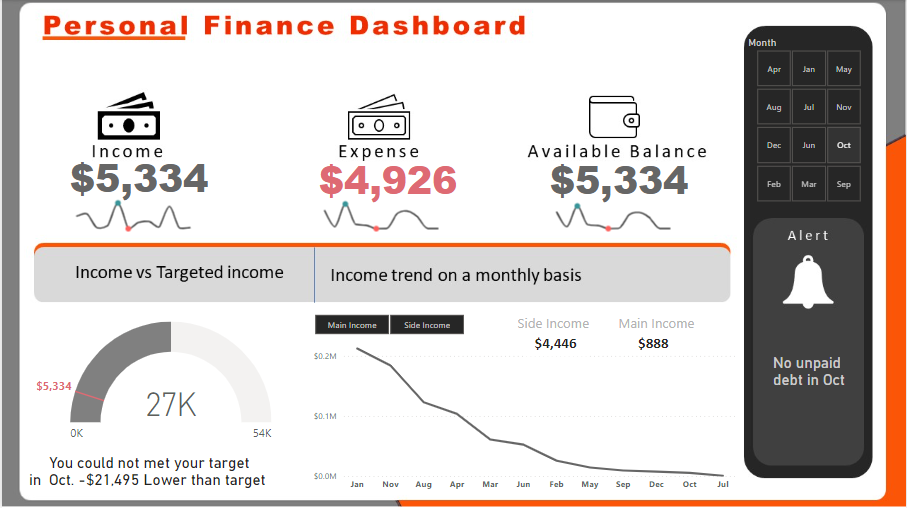

What the dashboard file says about the page in this screenshot:
{"tool":"powerbi","page":{"name":"Income","canvas":[1280,720],"ordinal":0},"visuals":[{"type":"card","fields":{"Values":["All Measures.Total Expenses"]},"box":[87.8,210.7,212.1,79],"z":0},{"type":"card","fields":{"Values":["All Measures.Total Expenses"]},"box":[438.9,213.6,215,79],"z":1000},{"type":"card","fields":{"Values":["All Measures.Total Income"]},"box":[768,213.6,209.2,79],"z":2000},{"type":"PBI_CV_25997FEB_F466_44FA_B562_AC4063283C4C","fields":{"measure":["All Measures.Total Income"],"axis":["Main Data.Month"]},"box":[87.8,272.1,200.4,64.4],"z":3000},{"type":"PBI_CV_25997FEB_F466_44FA_B562_AC4063283C4C","fields":{"axis":["Main Data.Month"],"measure":["All Measures.Total Expenses"]},"box":[438.9,273.6,200.4,62.9],"z":4000},{"type":"PBI_CV_25997FEB_F466_44FA_B562_AC4063283C4C","fields":{"measure":["All Measures.Available balance"],"axis":["Main Data.Month"]},"box":[766.5,276.5,200.4,60],"z":4001},{"type":"slicer","fields":{"Values":["Main Data.Month"]},"box":[1043,48.6,196.2,244.7],"z":4004},{"type":"gauge","fields":{"Y":["Income Goal.Total Income Target"],"TargetValue":["All Measures.Total Income"]},"box":[38,440.3,348.2,206.3],"z":4005},{"type":"card","fields":{"Values":["All Measures.Guage Caption"]},"box":[29.1,631.3,357.4,73.8],"z":4006},{"type":"lineChart","fields":{"Category":["Main Data.Month"],"Y":["All Measures.Total Income"]},"box":[435.1,448.7,608,256.4],"z":4007},{"type":"card","fields":{"Values":["All Measures.Side Income"]},"box":[738.7,466.7,89.2,39.5],"z":4008},{"type":"card","fields":{"Values":["All Measures.Main Income"]},"box":[885,471,71.7,32.2],"z":4009},{"type":"textbox","box":[724.1,440.3,128.7,39.5],"z":4010},{"type":"textbox","box":[867.5,440.3,137.5,39.5],"z":4011},{"type":"slicer","fields":{"Values":["Main Data.Category"]},"box":[416.9,440.3,260.4,41],"z":4012},{"type":"card","fields":{"Values":["All Measures.Alert"]},"box":[1060.6,446.2,160.9,160.9],"z":4013}]}

Visuals, with their boxes in screenshot pixels (x1, y1, x2, y2), scaled from the page's 1280x720 canvas onto the 907x508 screenshot:
card - All Measures.Total Expenses: l=62, t=149, r=213, b=204
card - All Measures.Total Expenses: l=311, t=151, r=463, b=206
card - All Measures.Total Income: l=544, t=151, r=692, b=206
PBI_CV_25997FEB_F466_44FA_B562_AC4063283C4C - All Measures.Total Income x Main Data.Month: l=62, t=192, r=204, b=237
PBI_CV_25997FEB_F466_44FA_B562_AC4063283C4C - Main Data.Month x All Measures.Total Expenses: l=311, t=193, r=453, b=237
PBI_CV_25997FEB_F466_44FA_B562_AC4063283C4C - All Measures.Available balance x Main Data.Month: l=543, t=195, r=685, b=237
slicer - Main Data.Month: l=739, t=34, r=878, b=207
gauge - Income Goal.Total Income Target x All Measures.Total Income: l=27, t=311, r=274, b=456
card - All Measures.Guage Caption: l=21, t=445, r=274, b=497
lineChart - Main Data.Month x All Measures.Total Income: l=308, t=317, r=739, b=497
card - All Measures.Side Income: l=523, t=329, r=587, b=357
card - All Measures.Main Income: l=627, t=332, r=678, b=355
textbox: l=513, t=311, r=604, b=339
textbox: l=615, t=311, r=712, b=339
slicer - Main Data.Category: l=295, t=311, r=480, b=340
card - All Measures.Alert: l=752, t=315, r=866, b=428
